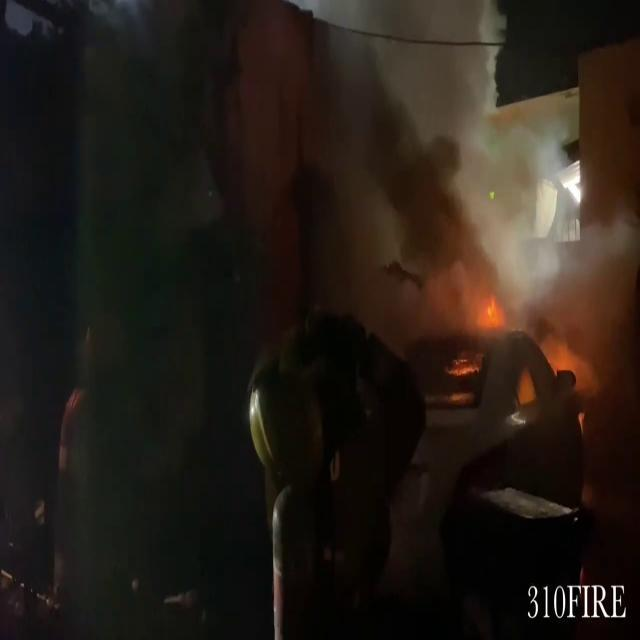Smoke: (250, 1, 526, 340)
